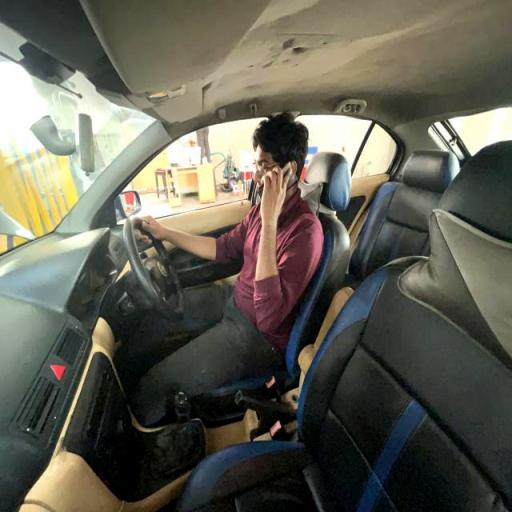Talking_on_phone: (134, 109, 322, 364)
